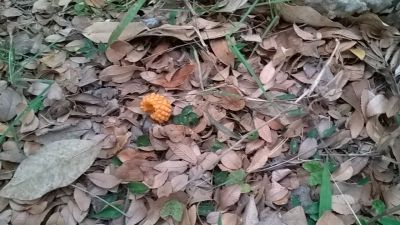eggs: (140, 92, 172, 123)
